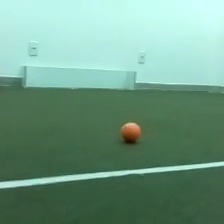ball: (119, 119, 142, 144)
goal: (21, 63, 138, 92)
